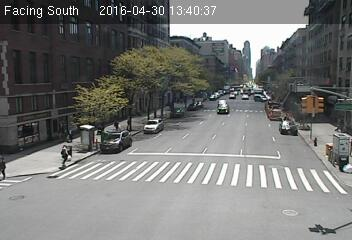neg: (147, 169, 171, 201), (216, 95, 234, 119), (52, 16, 70, 40), (248, 146, 262, 164), (284, 115, 297, 131), (311, 133, 323, 149), (254, 88, 266, 103), (316, 217, 327, 232), (112, 117, 122, 130), (158, 98, 168, 111)
pos: (57, 143, 74, 166), (58, 124, 74, 146)
